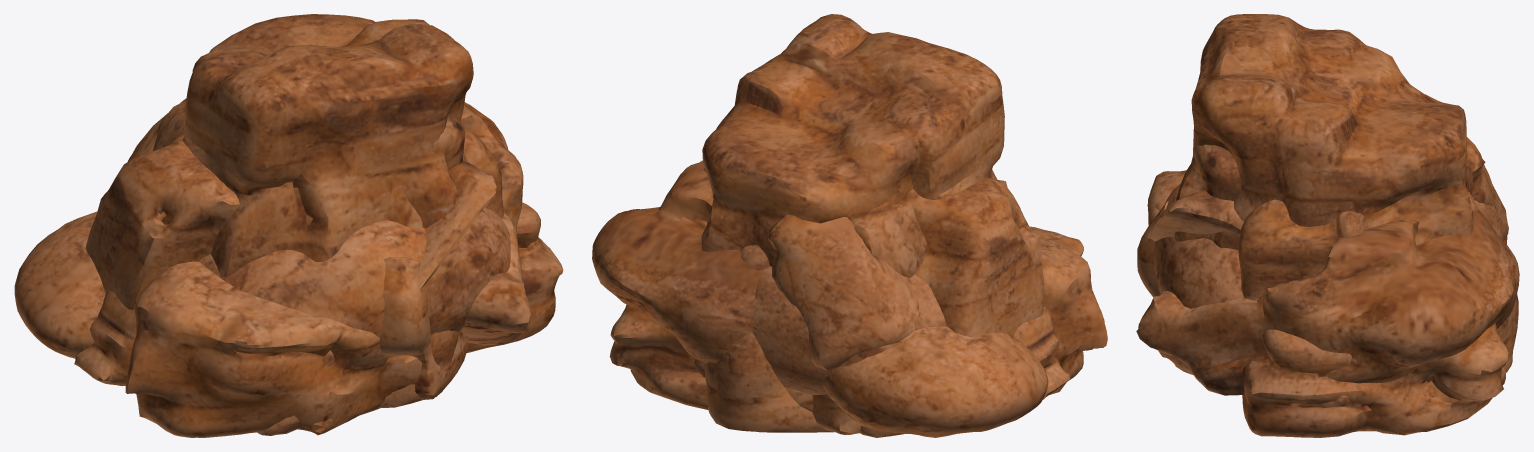
File: Desert_rock_chunks_12_pieces_runtime_2k_lods.glb
The picture shows the model from 3 angles, left to right: view 1: azimuth 30°, elevation 25°; view 2: azimuth 150°, elevation 25°; view 3: azimuth 270°, elevation 25°; orthographic projection. The views are drawn at different scales.
Parts seen in each view (by area): view 1: DesertRockPiece00_LOD0, DesertRockPiece09_LOD0, DesertRockPiece01_LOD0, DesertRockPiece05_LOD0, DesertRockPiece04_LOD0, DesertRockPiece06_LOD0, DesertRockPiece03_LOD0, DesertRockPiece02_LOD0, DesertRockPiece07_LOD0; view 2: DesertRockPiece00_LOD0, DesertRockPiece04_LOD0, DesertRockPiece05_LOD0, DesertRockPiece03_LOD0, DesertRockPiece09_LOD0, DesertRockPiece06_LOD0, DesertRockPiece01_LOD0, DesertRockPiece02_LOD0, DesertRockPiece07_LOD0; view 3: DesertRockPiece00_LOD0, DesertRockPiece04_LOD0, DesertRockPiece09_LOD0, DesertRockPiece05_LOD0, DesertRockPiece01_LOD0, DesertRockPiece03_LOD0, DesertRockPiece06_LOD0.
Boxes of the visible parts, left/top/right/bottom form: DesertRockPiece00_LOD0: left=152, top=14, right=473, bottom=407; DesertRockPiece09_LOD0: left=125, top=202, right=563, bottom=437; DesertRockPiece01_LOD0: left=198, top=205, right=510, bottom=337; DesertRockPiece05_LOD0: left=85, top=127, right=503, bottom=309; DesertRockPiece04_LOD0: left=14, top=102, right=530, bottom=358; DesertRockPiece06_LOD0: left=306, top=115, right=468, bottom=399; DesertRockPiece03_LOD0: left=127, top=98, right=496, bottom=290; DesertRockPiece02_LOD0: left=74, top=290, right=136, bottom=385; DesertRockPiece07_LOD0: left=257, top=350, right=334, bottom=435; DesertRockPiece00_LOD0: left=701, top=14, right=1004, bottom=435; DesertRockPiece04_LOD0: left=592, top=160, right=1048, bottom=437; DesertRockPiece05_LOD0: left=704, top=168, right=1044, bottom=337; DesertRockPiece03_LOD0: left=768, top=215, right=919, bottom=370; DesertRockPiece09_LOD0: left=609, top=226, right=1107, bottom=409; DesertRockPiece06_LOD0: left=703, top=244, right=833, bottom=432; DesertRockPiece01_LOD0: left=752, top=266, right=946, bottom=394; DesertRockPiece02_LOD0: left=1013, top=306, right=1070, bottom=399; DesertRockPiece07_LOD0: left=693, top=359, right=904, bottom=437; DesertRockPiece00_LOD0: left=1174, top=14, right=1473, bottom=375; DesertRockPiece04_LOD0: left=1136, top=209, right=1519, bottom=395; DesertRockPiece09_LOD0: left=1147, top=170, right=1508, bottom=437; DesertRockPiece05_LOD0: left=1238, top=199, right=1374, bottom=431; DesertRockPiece01_LOD0: left=1154, top=183, right=1502, bottom=308; DesertRockPiece03_LOD0: left=1147, top=137, right=1508, bottom=241; DesertRockPiece06_LOD0: left=1137, top=144, right=1518, bottom=374.
Size of what is drawn, in the model's own units: 0.6147 by 0.4132 by 0.4712.
1 material, 1 textured.
